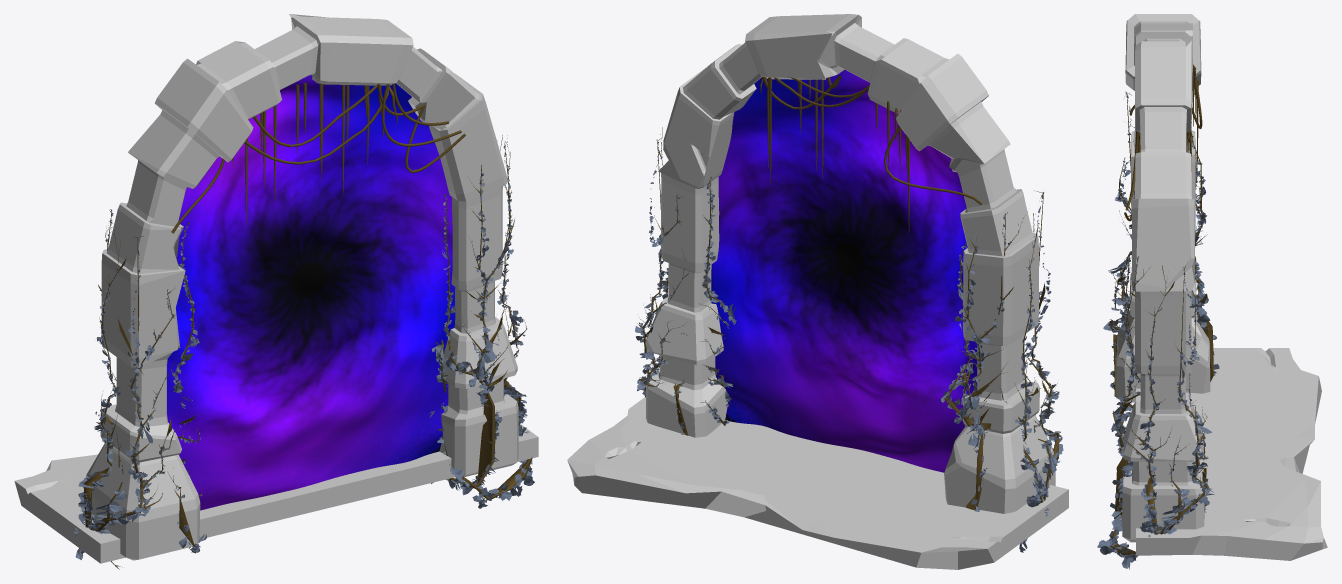
File: EndPortal.fbx
The picture shows the model from 3 angles, left to right: view 1: azimuth 30°, elevation 25°; view 2: azimuth 150°, elevation 25°; view 3: azimuth 270°, elevation 25°; orthographic projection. The views are drawn at different scales.
Parts seen in each view (by area): view 1: Plane, pORTALbRICKS, Cube, vINES, vINES.001, hANGINGvINES; view 2: Plane, pORTALbRICKS, Cube, vINES.001, vINES, hANGINGvINES; view 3: pORTALbRICKS, Cube, vINES, vINES.001, hANGINGvINES.
Part boxes in pixels (box(x1,y1,x2,y2)): Plane: box(167, 75, 455, 510); pORTALbRICKS: box(86, 14, 518, 560); Cube: box(14, 424, 538, 563); vINES: box(429, 135, 534, 508); vINES.001: box(74, 209, 206, 569); hANGINGvINES: box(171, 82, 465, 233); Plane: box(711, 69, 977, 472); pORTALbRICKS: box(645, 14, 1055, 513); Cube: box(567, 397, 1068, 569); vINES.001: box(941, 190, 1063, 552); vINES: box(635, 127, 736, 435); hANGINGvINES: box(760, 75, 982, 233); pORTALbRICKS: box(1116, 14, 1210, 542); Cube: box(1136, 348, 1327, 560); vINES: box(1097, 254, 1214, 569); vINES.001: box(1103, 92, 1219, 411); hANGINGvINES: box(1124, 64, 1202, 221).
Size of the model in its own units: 297 by 318 by 150.
